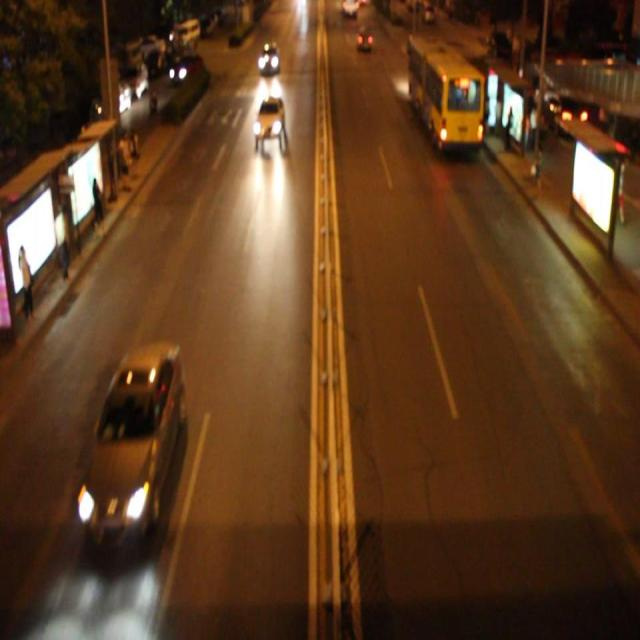car: (75, 340, 181, 548), (254, 94, 284, 144)
van: (407, 34, 481, 150)
